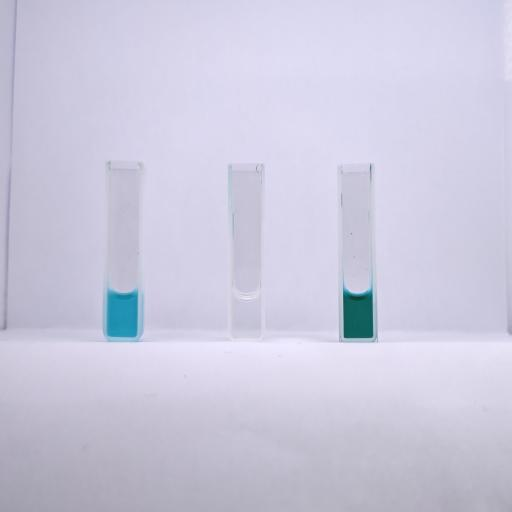cuvette: (102, 158, 148, 342), (335, 162, 380, 345), (226, 161, 268, 343)
liquid: (108, 288, 138, 337), (231, 290, 261, 338), (344, 290, 372, 338)
